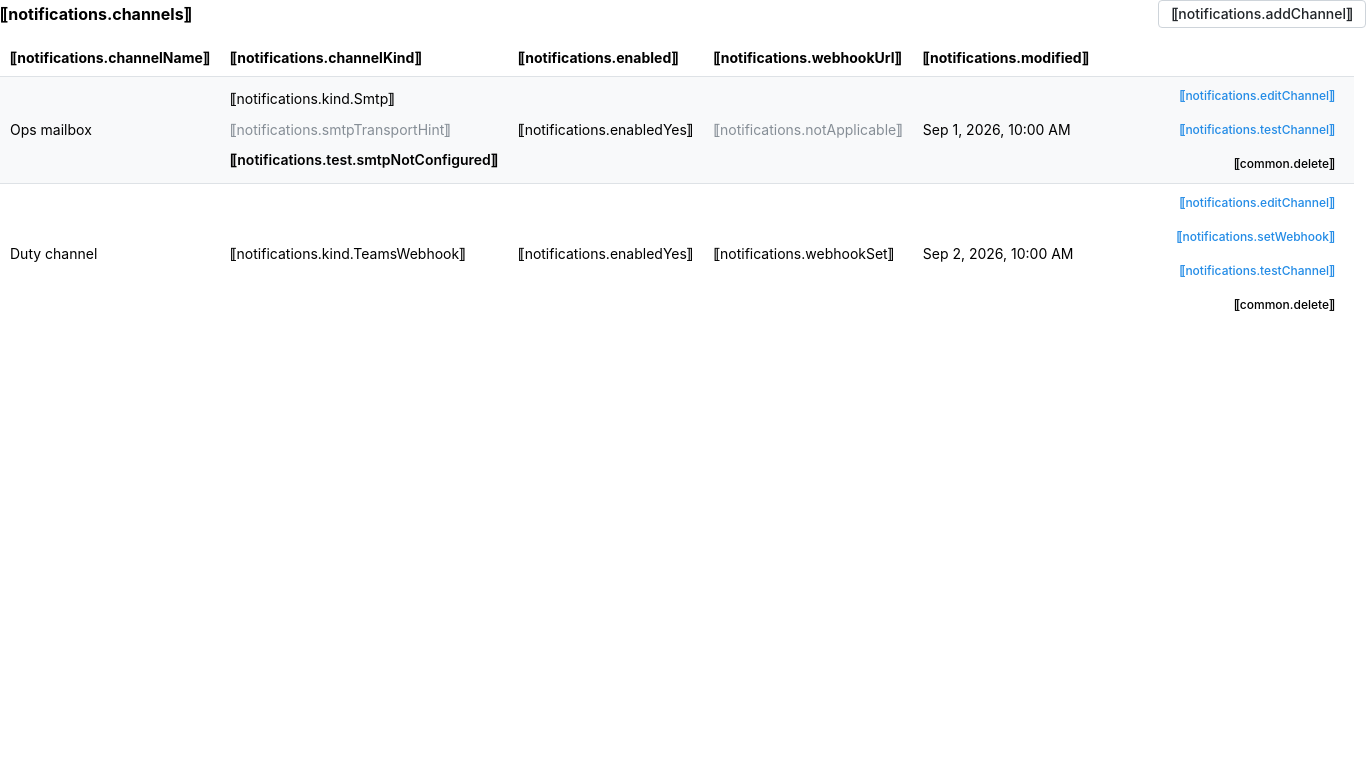
Test: ChannelsPanel: транспорт пошти — з налаштувань застосунку › форма наявного каналу каже те, що сказав сервер, а не статичну підказку
Click the button "⟦notifications.editChannel⟧" in the row of "⟦notifications.kind.Smtp⟧" at (1257, 96), box 1170,84 -> 1344,108
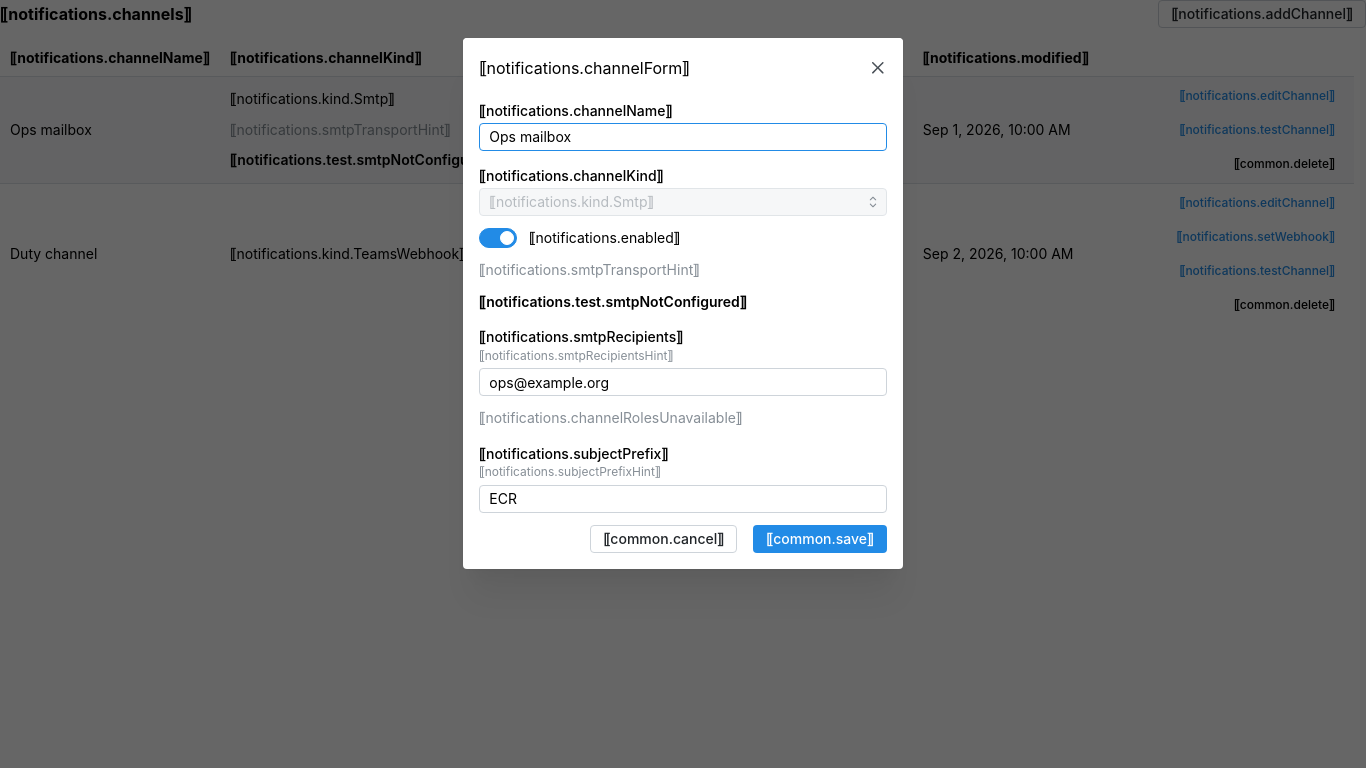
Now the field labelled "⟦notifications.smtpRecipients⟧" is shown, box 479,369 -> 887,397
Now the dialog shows "notifications.test.smtpNotConfigured", box 479,293 -> 747,310
Now the dialog shows "notifications.smtpTransportHint", box 479,261 -> 700,278
